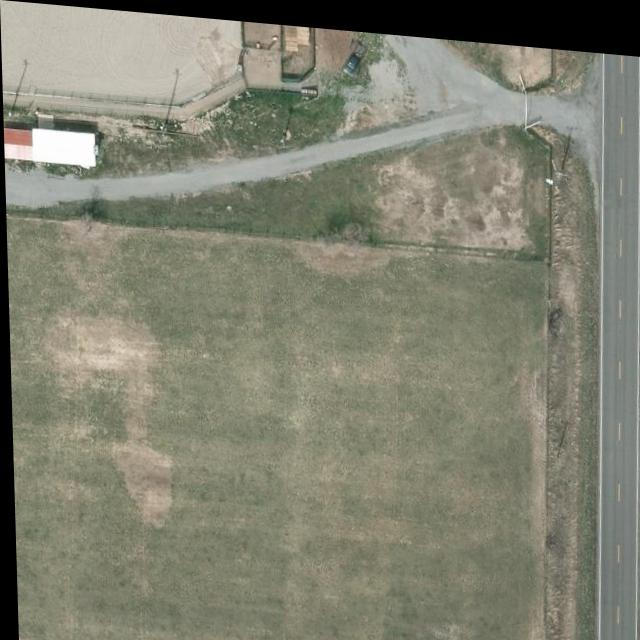vehicle: (343, 34, 367, 73)
